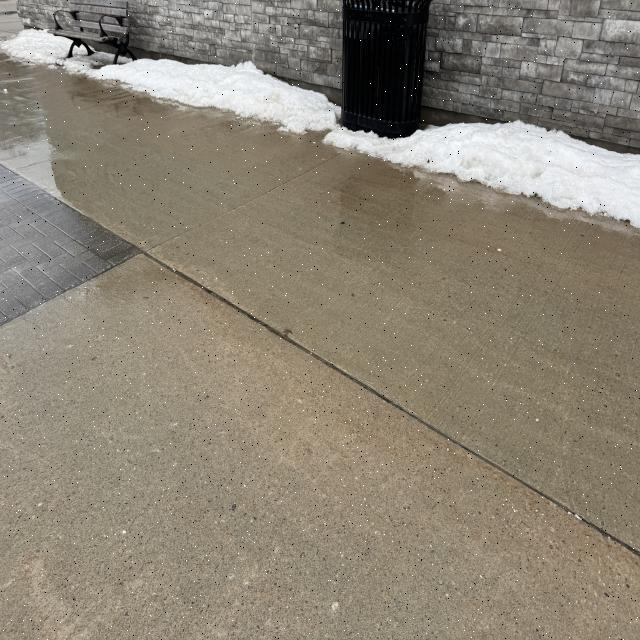Dustbin: (340, 0, 431, 137)
